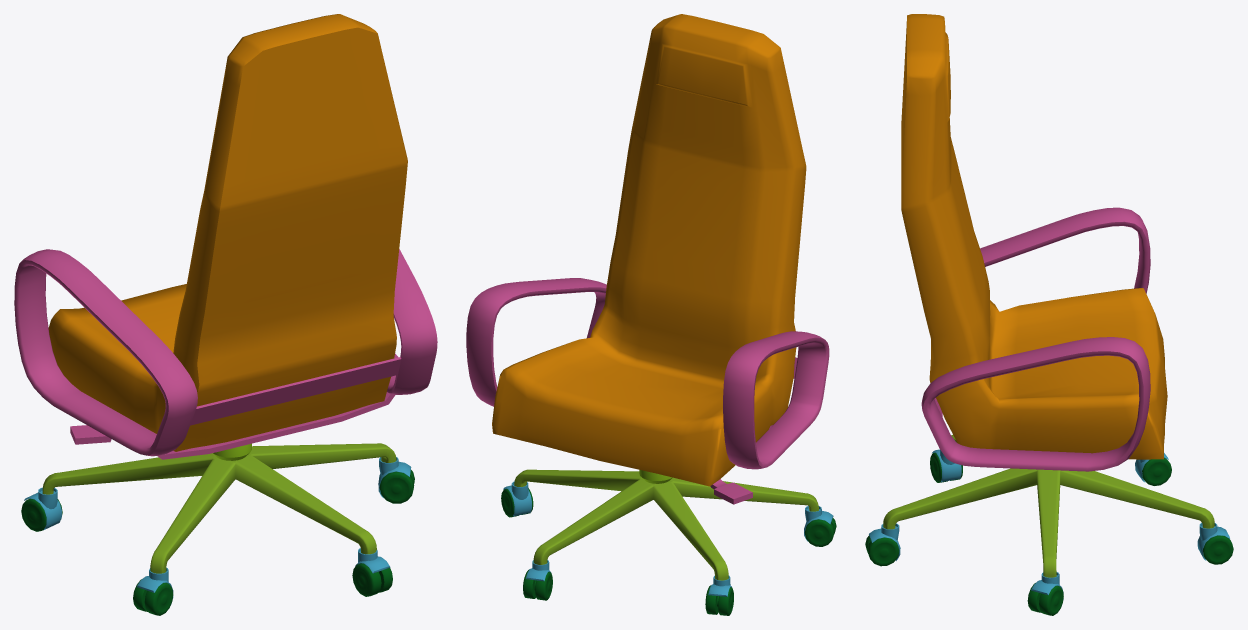
The model's file is Chair001.fbx.
3 views of the same model, side by side, from view 1: azimuth 30°, elevation 25°; view 2: azimuth 150°, elevation 25°; view 3: azimuth 270°, elevation 25° (orthographic). The views are drawn at different scales.
Visible parts, largest first — view 1: CHAIR_PLASTIC; view 2: CHAIR_PLASTIC; view 3: CHAIR_PLASTIC.
Part boxes in pixels (x1=…): CHAIR_PLASTIC: x1=14, y1=14, x2=437, y2=615; CHAIR_PLASTIC: x1=466, y1=14, x2=836, y2=615; CHAIR_PLASTIC: x1=865, y1=14, x2=1233, y2=615.
Bounding box in the file's own units: 98.57 × 152 × 100.
